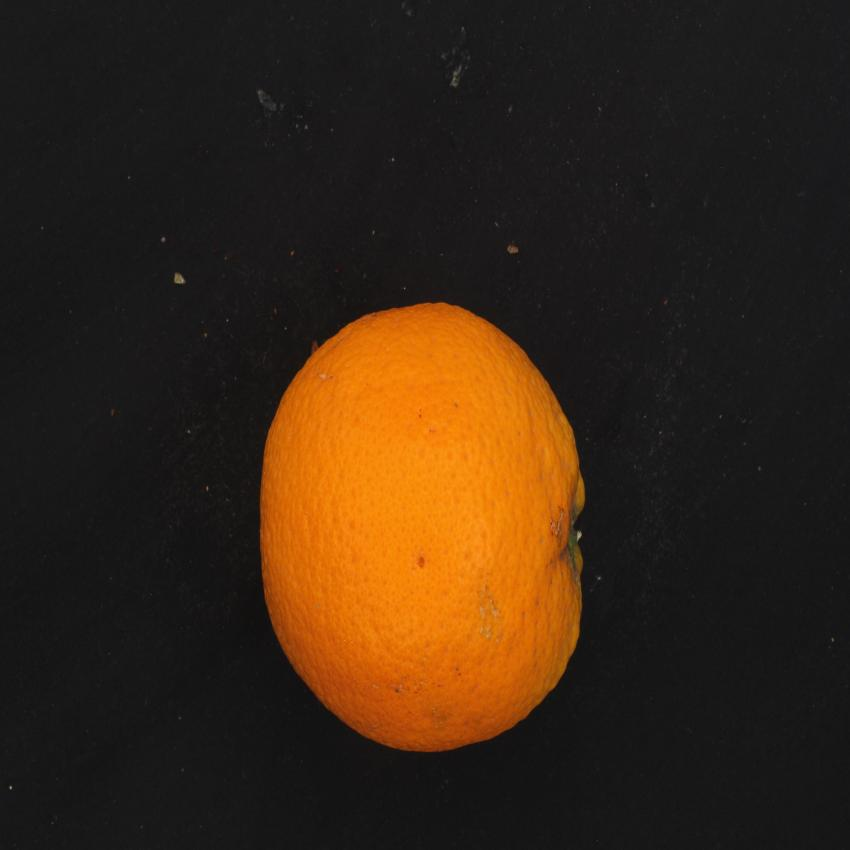Buen estado: (251, 286, 594, 762)
